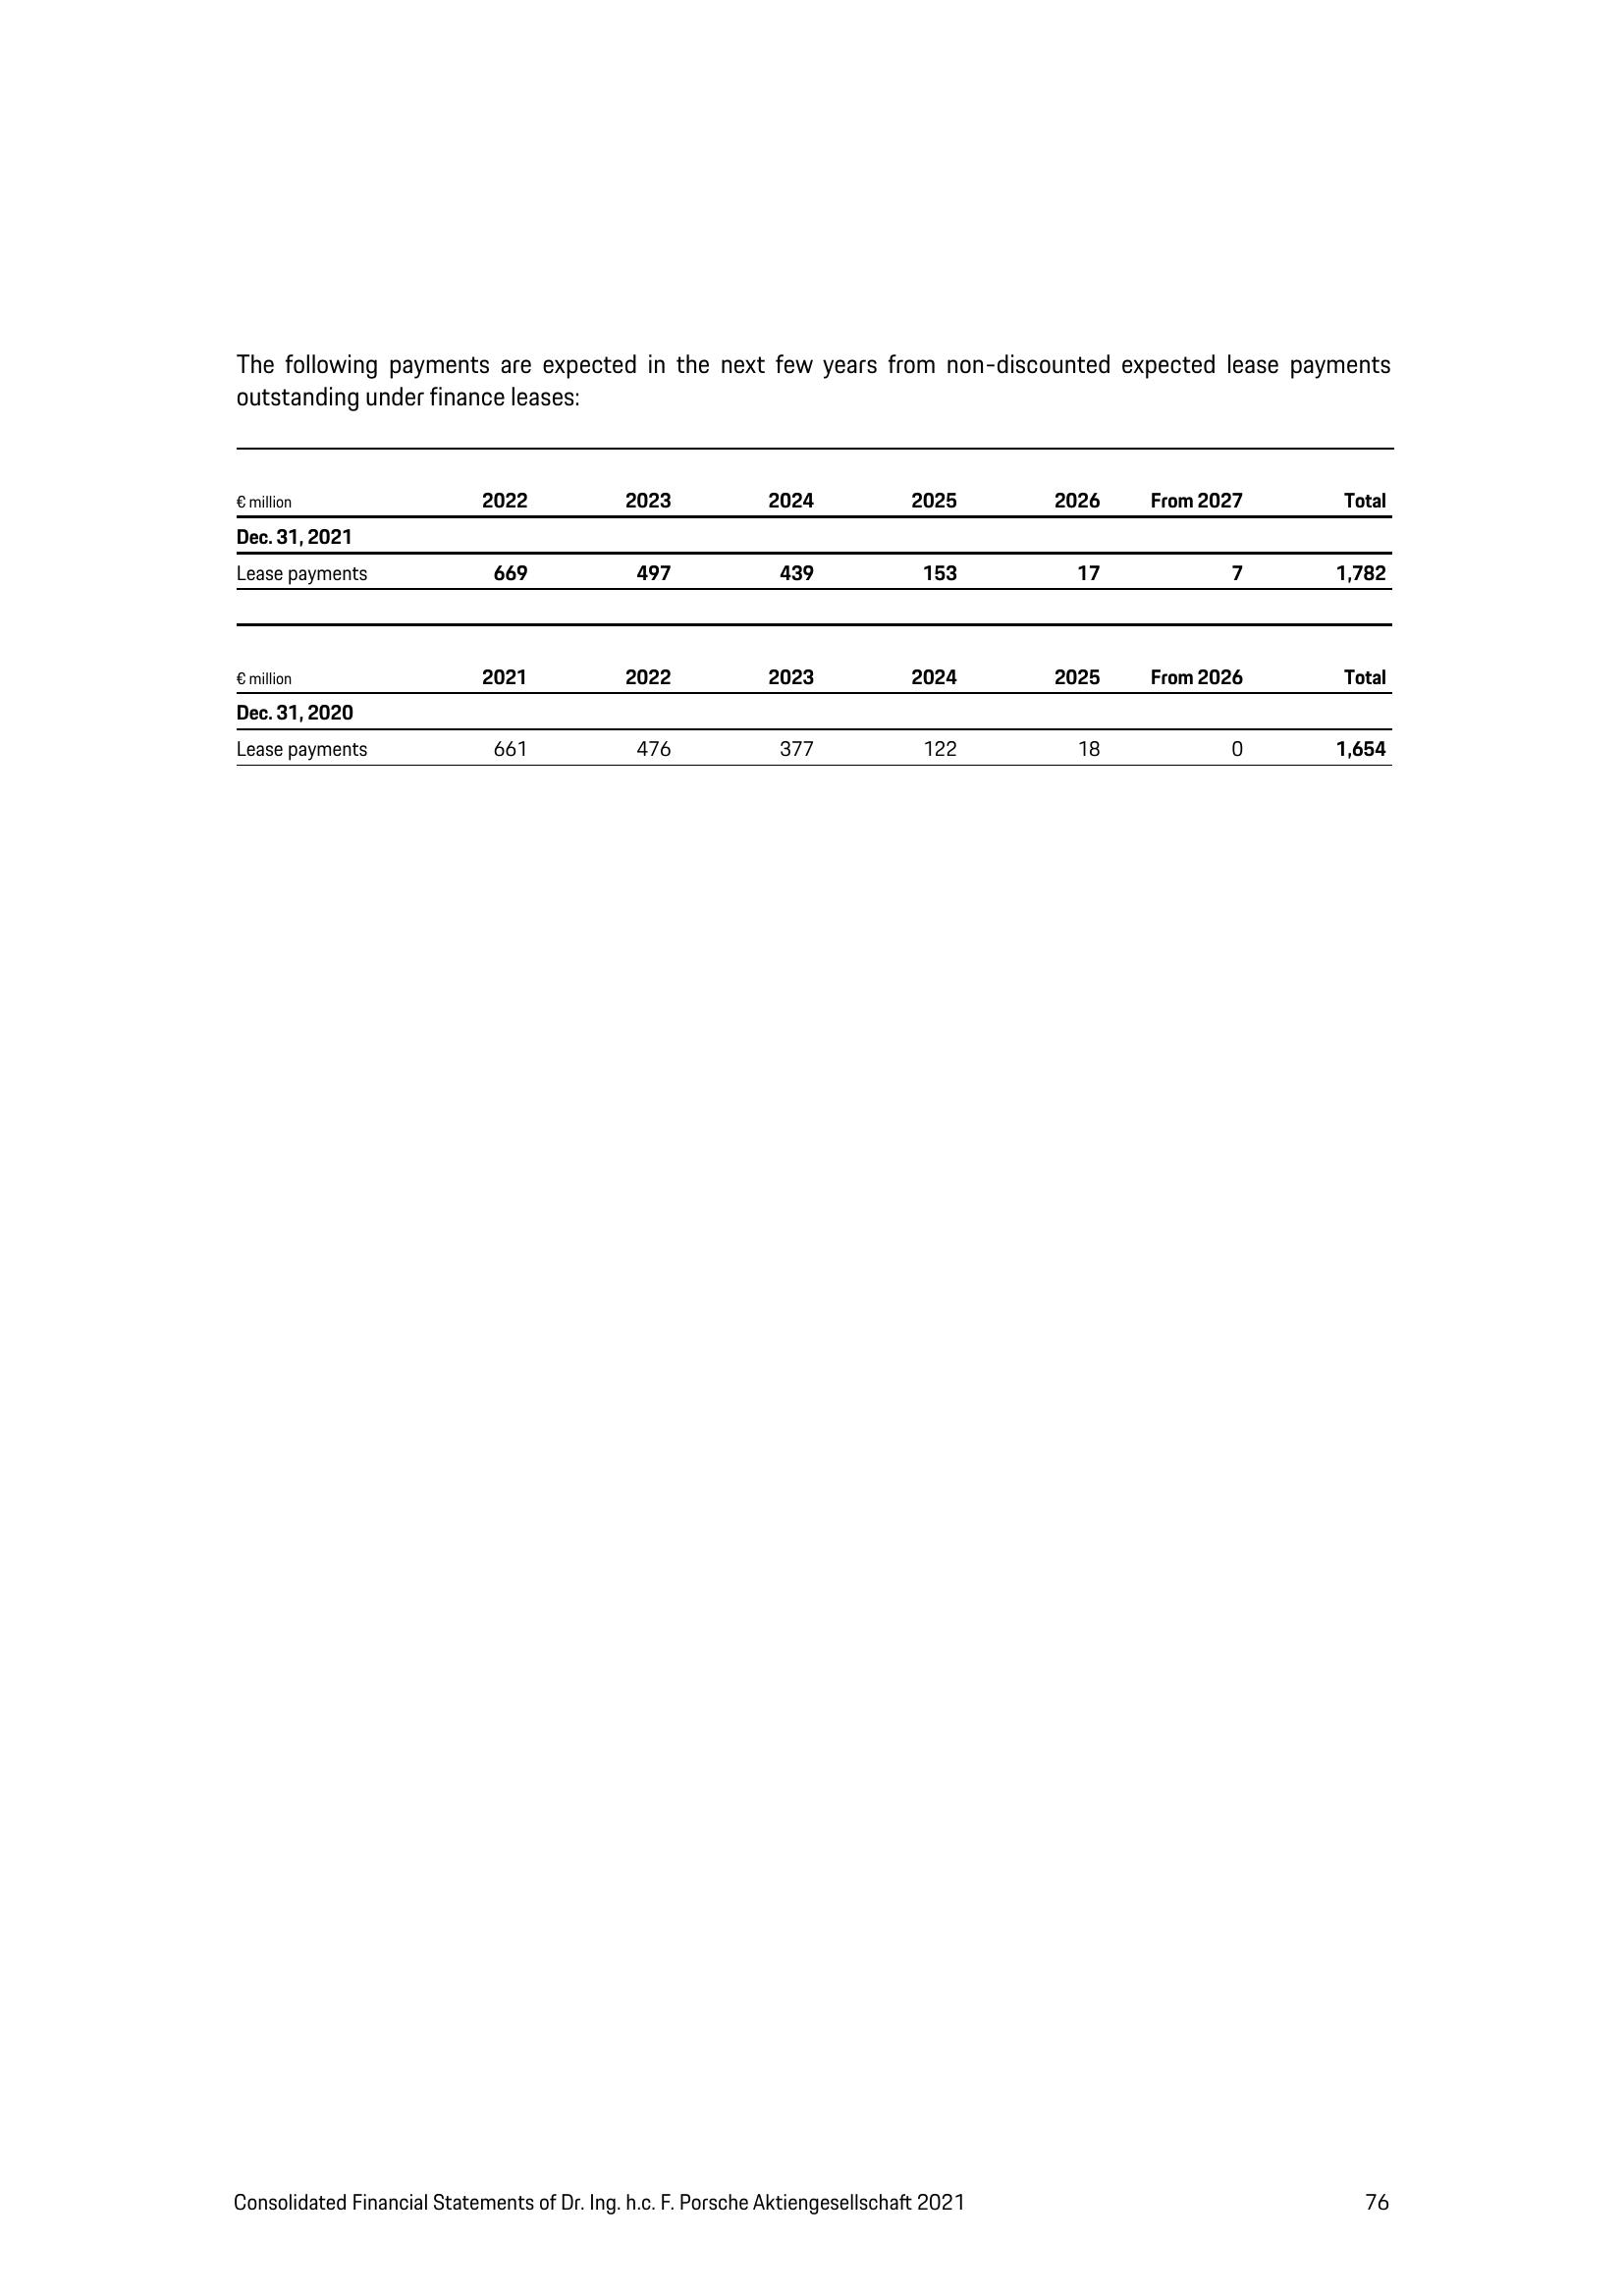Footer: (0, 2143, 1624, 2296)
Header: (0, 0, 1624, 228)
Table: (213, 443, 1417, 766)
